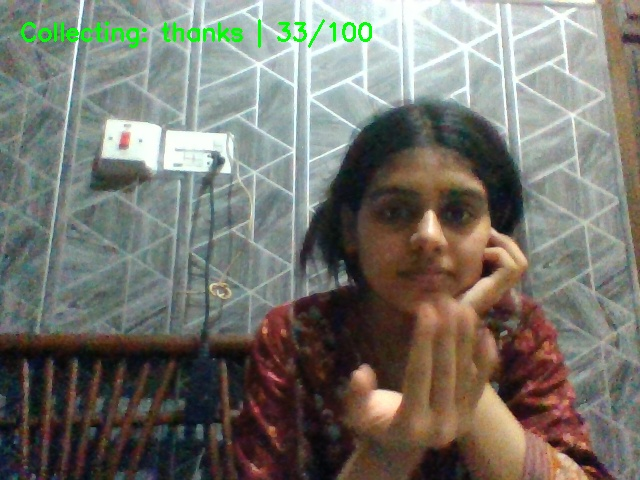thanks: (335, 294, 512, 474)
